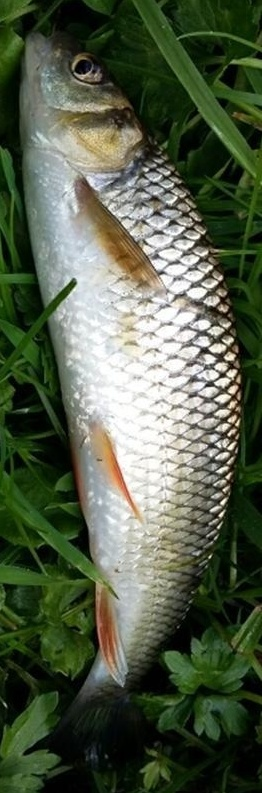Leuciscus cephalus: (20, 20, 242, 773)
